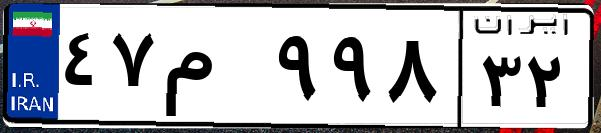2: (525, 38, 570, 115)
3: (475, 38, 525, 113)
4: (57, 26, 110, 100)
7: (110, 28, 158, 98)
8: (385, 28, 445, 110)
9: (270, 28, 330, 110), (330, 28, 385, 110)
م: (158, 20, 270, 120)
